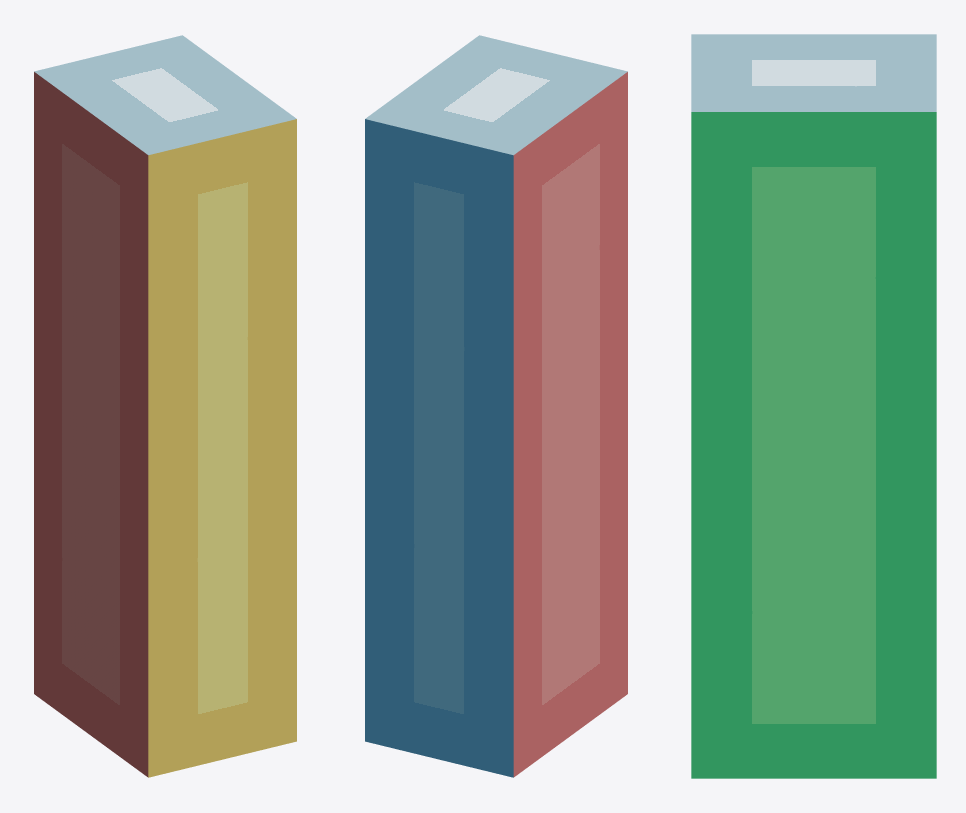
Rendered from slimhand.gltf.
3 views of the same model, side by side, from view 1: azimuth 30°, elevation 25°; view 2: azimuth 150°, elevation 25°; view 3: azimuth 270°, elevation 25° (orthographic). The views are drawn at different scales.
Visible parts, largest first — view 1: Right Arm; view 2: Right Arm; view 3: Right Arm.
Part boxes in pixels (box(x1,y1,x2,y2)): Right Arm: box(34, 35, 296, 777); Right Arm: box(365, 35, 627, 777); Right Arm: box(691, 34, 936, 778).
Size of the model in its own units: 0.2188 by 0.7812 by 0.2812.
Materials: 1 (1 with a texture image).
